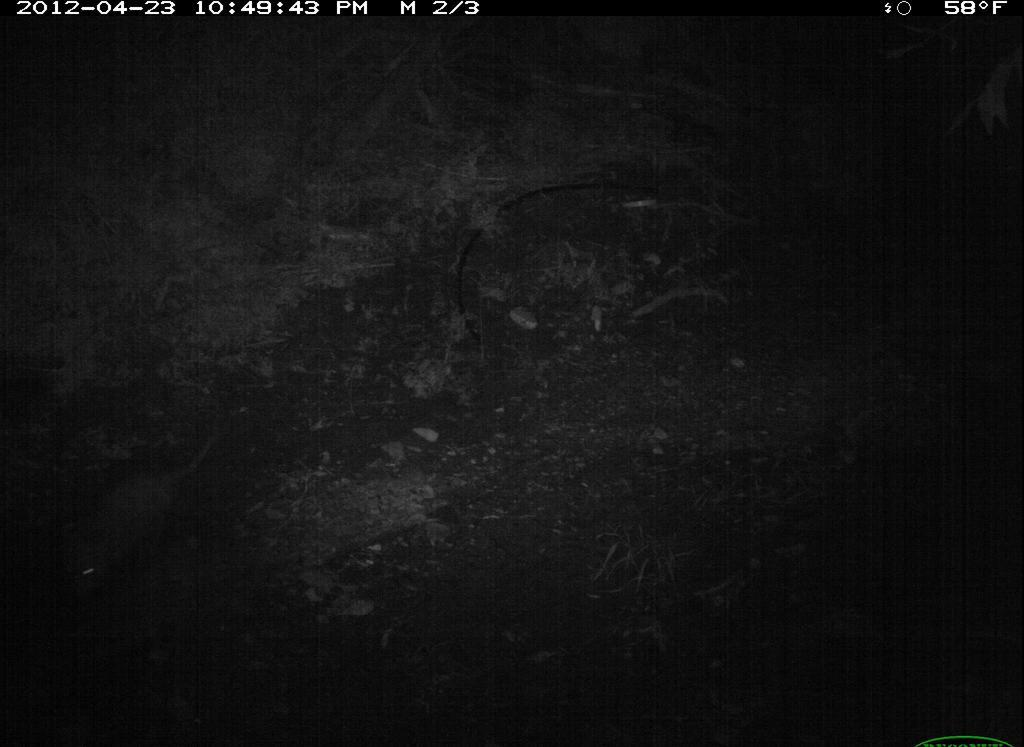opossum: (41, 406, 235, 628)
